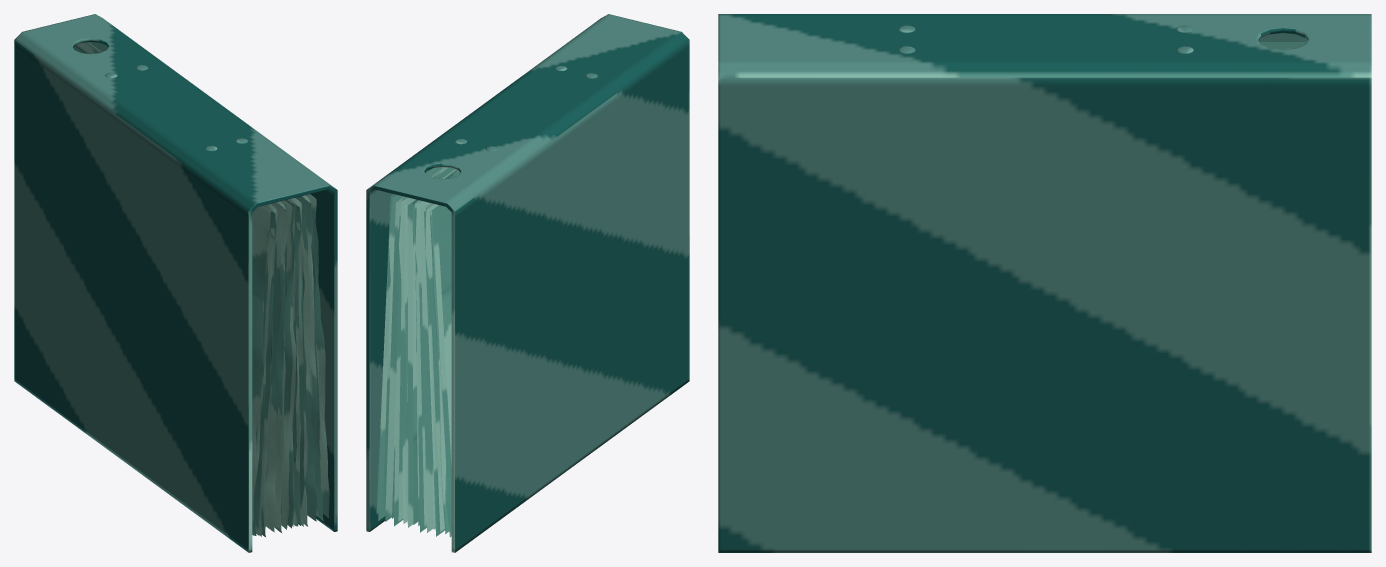
The model's file is teal_wavy_book.obj.
3 views of the same model, side by side, from view 1: azimuth 30°, elevation 25°; view 2: azimuth 150°, elevation 25°; view 3: azimuth 270°, elevation 25° (orthographic). The views are drawn at different scales.
Visible parts, largest first — view 1: teal_wavy_book_Chocofur_Office_06.000, teal_wavy_book_Chocofur_Office_06.002; view 2: teal_wavy_book_Chocofur_Office_06.000, teal_wavy_book_Chocofur_Office_06.002; view 3: teal_wavy_book_Chocofur_Office_06.000.
Part boxes in pixels (x1,y1,x2,y2): teal_wavy_book_Chocofur_Office_06.000: (14,14,337,552); teal_wavy_book_Chocofur_Office_06.002: (73,42,329,536); teal_wavy_book_Chocofur_Office_06.000: (366,14,689,552); teal_wavy_book_Chocofur_Office_06.002: (376,167,459,537); teal_wavy_book_Chocofur_Office_06.000: (718,14,1371,552).
Size of the model in its own units: 0.0755 by 0.2833 by 0.3455.
3 materials, 3 textured.
